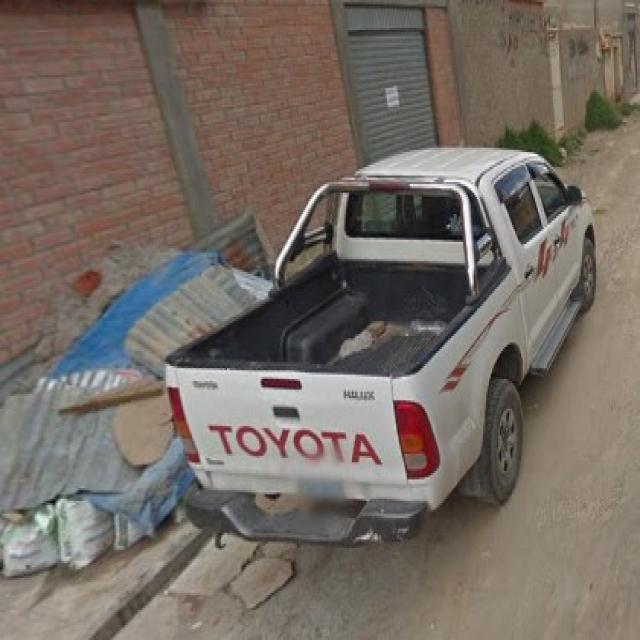cars: (189, 148, 583, 540)
